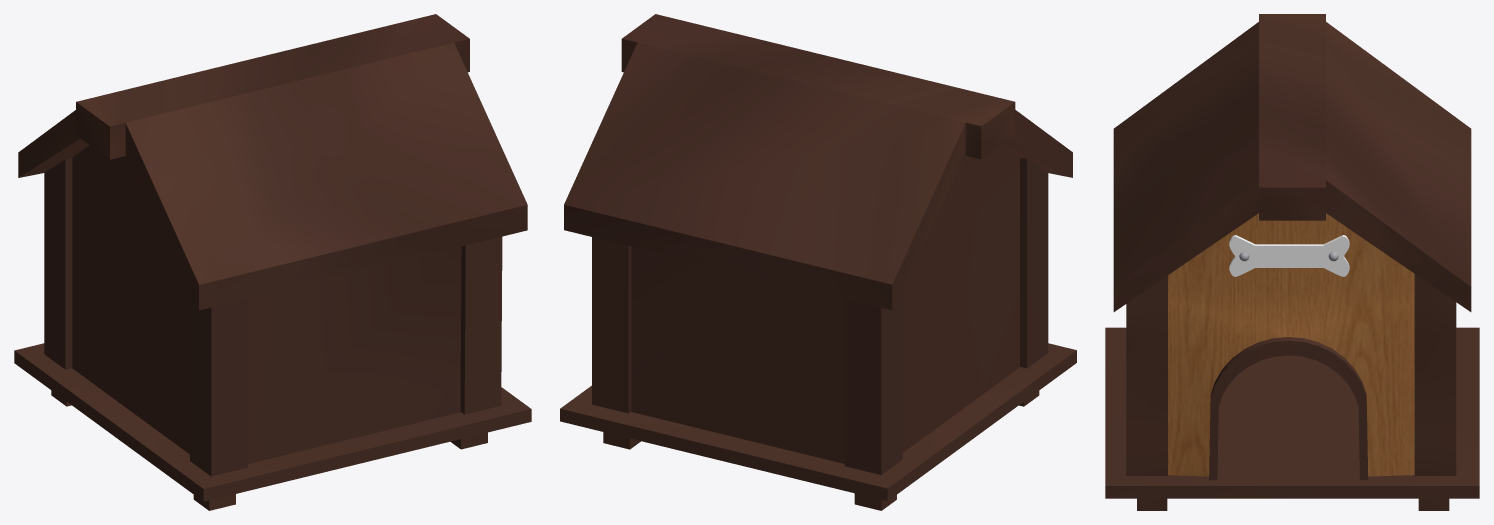
The model's file is köpke kulübesi.fbx.
The picture shows the model from 3 angles, left to right: view 1: azimuth 30°, elevation 25°; view 2: azimuth 150°, elevation 25°; view 3: azimuth 270°, elevation 25°; orthographic projection.
Visible parts, largest first — view 1: Plane.001; view 2: Plane.001; view 3: Plane.001.
Part boxes in pixels (x1,y1,x2,y2): Plane.001: (14,14,531,510); Plane.001: (560,14,1076,510); Plane.001: (1105,14,1479,510).
Size of the model in its own units: 101 by 92.99 by 91.6.
Materials: 1 (1 with a texture image).
